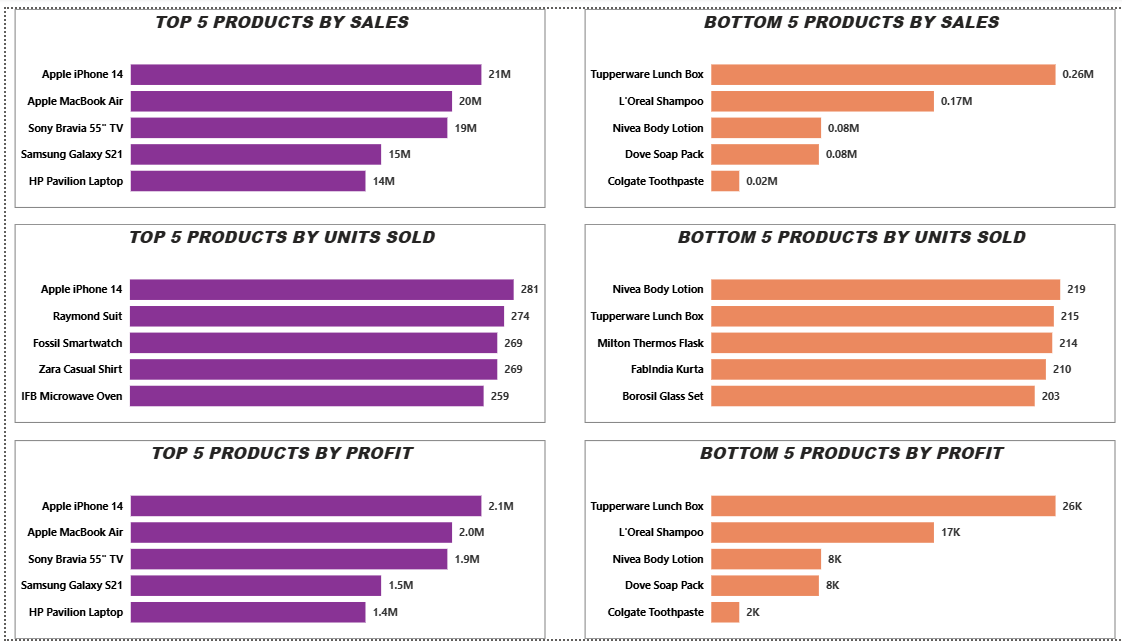

This screenshot's page, from the dashboard's own definition file:
{"tool":"powerbi","page":{"name":"top/bottom 5 analysis","canvas":[1280,720],"ordinal":0},"visuals":[{"type":"barChart","title":"TOP 5 PRODUCTS BY SALES","fields":{"Category":["Dim Product.Product Name"],"Y":["Sum(Fact table.Net_sales)"]},"box":[10,0,606.2,227.5],"z":0},{"type":"barChart","title":"BOTTOM 5 PRODUCTS BY SALES","fields":{"Category":["Dim Product.Product Name"],"Y":["Sum(Fact table.Net_sales)"]},"box":[661.5,0,606.2,227.5],"z":1000},{"type":"barChart","title":"TOP 5 PRODUCTS BY UNITS SOLD","fields":{"Category":["Dim Product.Product Name"],"Y":["Sum(Fact table.Units Sold)"]},"box":[9.6,245.6,606.2,227.5],"z":2000},{"type":"barChart","title":"BOTTOM 5 PRODUCTS BY UNITS SOLD","fields":{"Category":["Dim Product.Product Name"],"Y":["Sum(Fact table.Units Sold)"]},"box":[661.4,245.6,606.2,227.5],"z":3000},{"type":"barChart","title":"TOP 5 PRODUCTS BY PROFIT","fields":{"Category":["Dim Product.Product Name"],"Y":["Sum(Fact table.Profit)"]},"box":[9.6,492.6,606.2,227.5],"z":4000},{"type":"barChart","title":"BOTTOM 5 PRODUCTS BY PROFIT","fields":{"Category":["Dim Product.Product Name"],"Y":["Sum(Fact table.Profit)"]},"box":[661.4,492.6,606.2,227.5],"z":5000}]}

Visuals, with their boxes in screenshot pixels (x1, y1, x2, y2), scaled from the page's 1280x720 canvas onto the 1122x644 screenshot:
"TOP 5 PRODUCTS BY SALES" barChart: [left=9, top=0, right=540, bottom=203]
"BOTTOM 5 PRODUCTS BY SALES" barChart: [left=580, top=0, right=1111, bottom=203]
"TOP 5 PRODUCTS BY UNITS SOLD" barChart: [left=8, top=220, right=540, bottom=423]
"BOTTOM 5 PRODUCTS BY UNITS SOLD" barChart: [left=580, top=220, right=1111, bottom=423]
"TOP 5 PRODUCTS BY PROFIT" barChart: [left=8, top=441, right=540, bottom=643]
"BOTTOM 5 PRODUCTS BY PROFIT" barChart: [left=580, top=441, right=1111, bottom=643]
